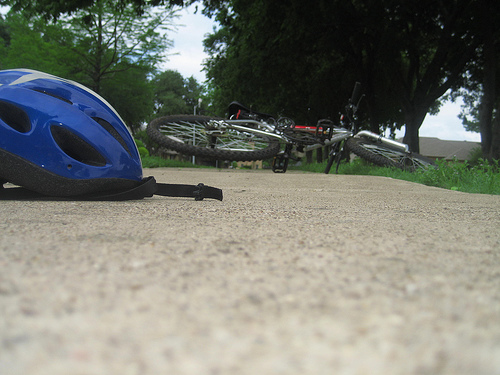helmet: (1, 60, 159, 198)
